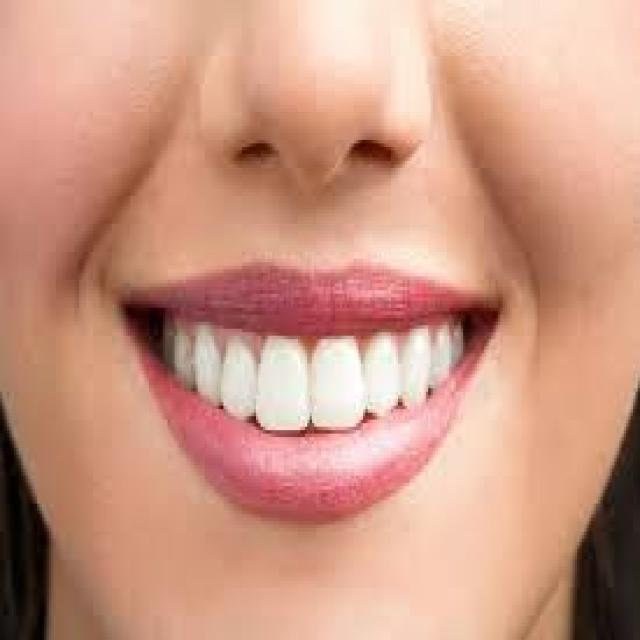tooth: (256, 343, 310, 430), (312, 339, 361, 430), (221, 332, 254, 420), (368, 339, 398, 413), (401, 332, 428, 402), (195, 336, 219, 398), (431, 322, 452, 378), (177, 336, 193, 395), (163, 314, 172, 364), (454, 325, 465, 360)
